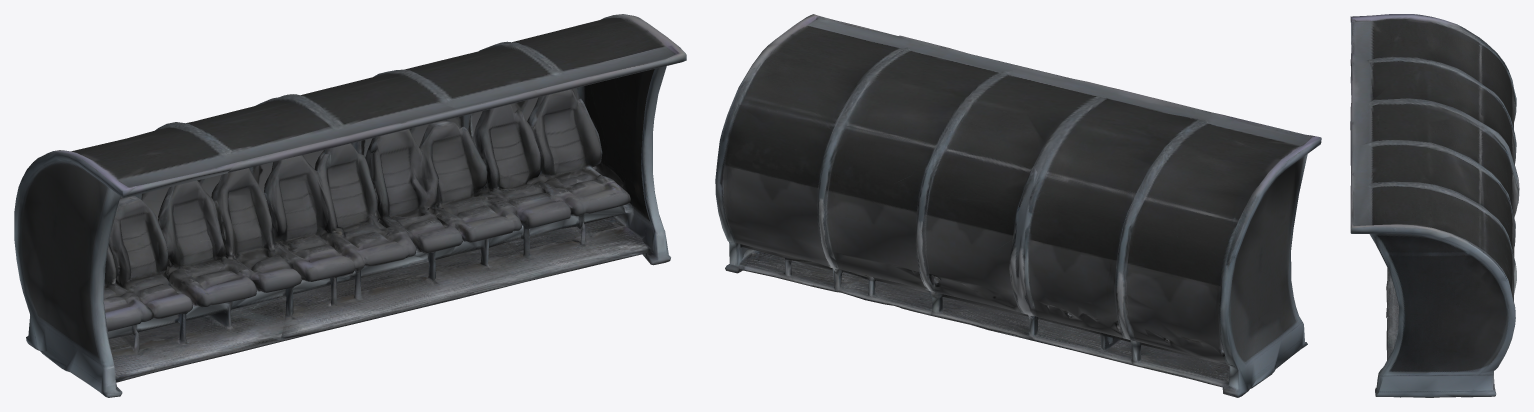
Rendered from dugout.glb.
The picture shows the model from 3 angles, left to right: view 1: azimuth 30°, elevation 25°; view 2: azimuth 150°, elevation 25°; view 3: azimuth 270°, elevation 25°; orthographic projection. The views are drawn at different scales.
Bounding box in the file's own units: 2 × 0.7457 × 0.6657.
1 material, 1 textured.
